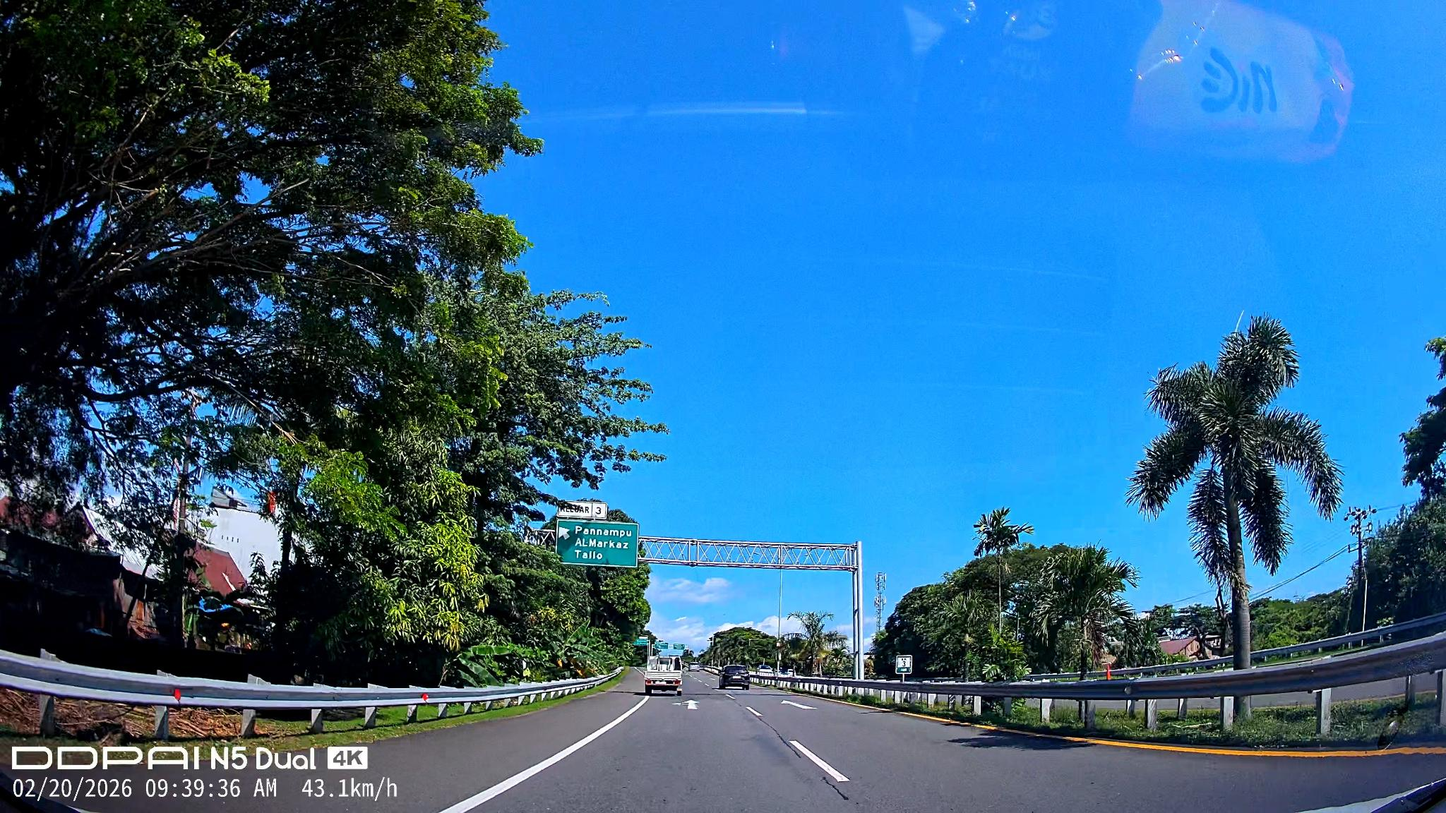rambu_teks: (555, 519, 640, 569)
